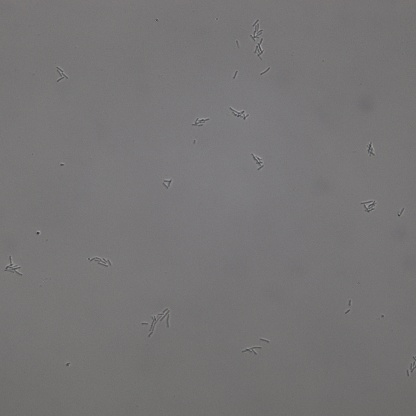R(colony): (142, 307, 171, 341), (3, 255, 23, 275), (228, 105, 249, 120), (250, 18, 263, 41), (88, 256, 112, 268), (254, 38, 265, 62), (56, 65, 69, 84), (252, 153, 265, 170), (361, 199, 376, 213), (191, 117, 209, 127), (241, 347, 261, 355), (366, 142, 375, 156), (161, 178, 172, 188), (410, 357, 416, 375)
